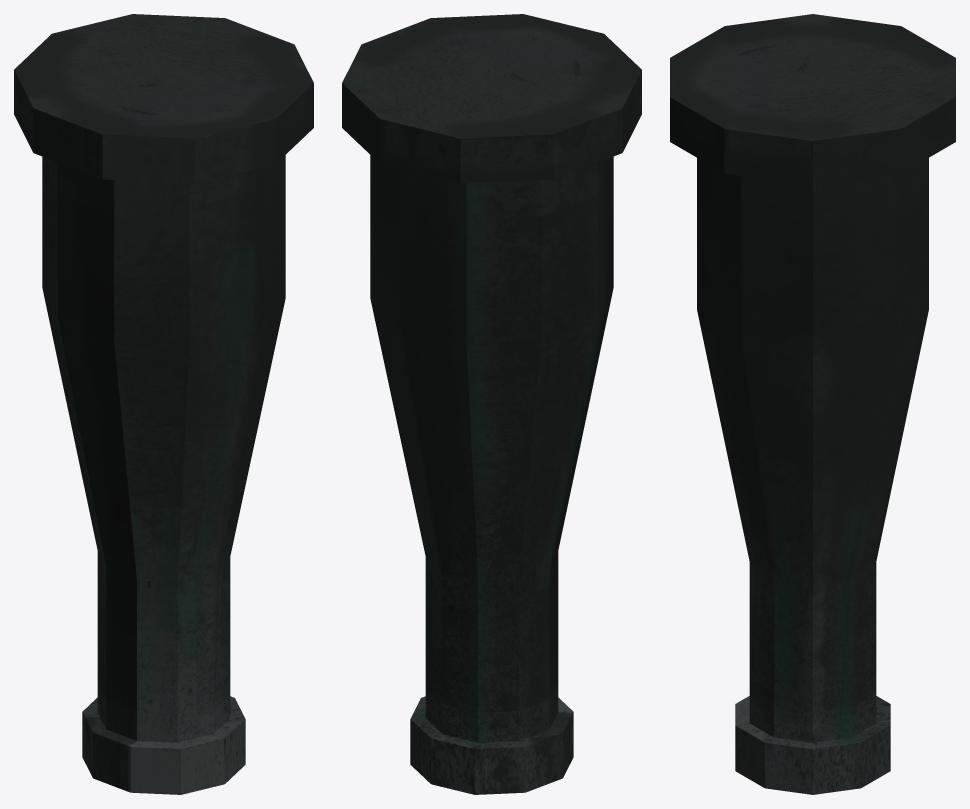
The model's file is Pipe Transition S to M.fbx.
The picture shows the model from 3 angles, left to right: view 1: azimuth 30°, elevation 25°; view 2: azimuth 150°, elevation 25°; view 3: azimuth 270°, elevation 25°; orthographic projection.
Visible parts, largest first — view 1: Transition_M_S; view 2: Transition_M_S; view 3: Transition_M_S.
Boxes of the visible parts, x1,y1,x2,y2 form: Transition_M_S: (14,14,313,794); Transition_M_S: (342,14,641,794); Transition_M_S: (670,14,955,794).
Bounding box in the file's own units: 2.46 × 6.17 × 2.34.
1 material, 1 textured.
